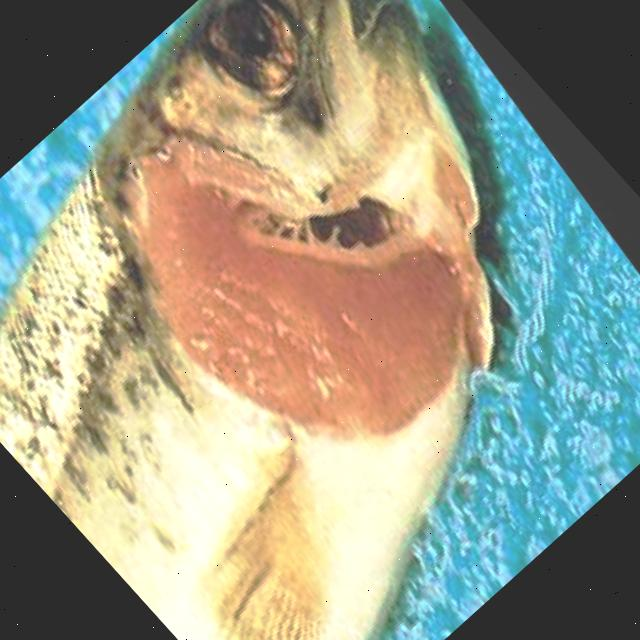Flavobacterium -Bacterial Gill Disease-: (0, 0, 515, 640), (0, 0, 514, 640)
